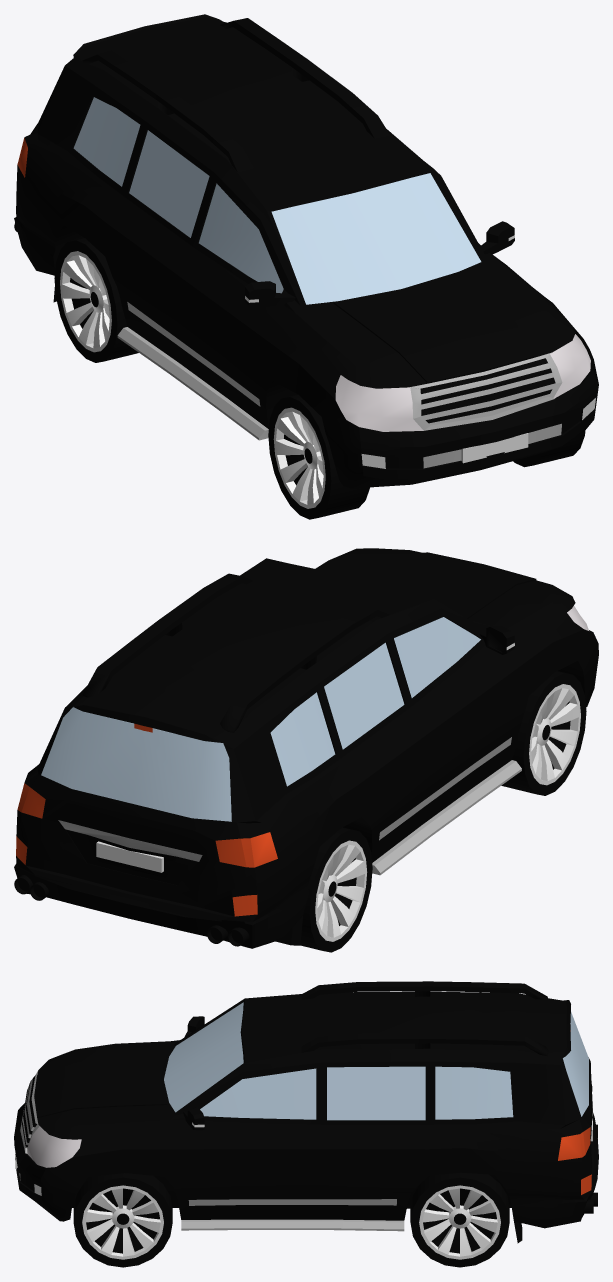
File: Land Cruiser.2.fbx
The picture shows the model from 3 angles, top to bottom: view 1: azimuth 30°, elevation 25°; view 2: azimuth 150°, elevation 25°; view 3: azimuth 270°, elevation 25°; orthographic projection. The views are drawn at different scales.
Parts seen in each view (by area): view 1: body, wheels front right, wheels back right, bagajnik, mirrors, number, wheels front left; view 2: body, wheels front right, bagajnik, wheels back right, tubes, number back, mirrors; view 3: body, wheels back left, wheels front left, bagajnik, mirrors.
Part boxes in pixels (x1,y1,x2,y2): body: [14, 14, 598, 488]; wheels front right: [268, 394, 369, 519]; wheels back right: [54, 238, 138, 362]; bagajnik: [82, 18, 389, 172]; mirrors: [245, 221, 514, 307]; number: [461, 433, 528, 463]; wheels front left: [513, 431, 585, 467]; body: [14, 548, 598, 948]; wheels front right: [501, 671, 586, 795]; bagajnik: [82, 573, 389, 732]; wheels back right: [300, 827, 372, 952]; tubes: [14, 875, 249, 946]; number back: [96, 841, 163, 872]; mirrors: [479, 626, 514, 654]; body: [14, 991, 598, 1243]; wheels back left: [410, 1172, 509, 1267]; wheels front left: [73, 1173, 172, 1267]; bagajnik: [301, 981, 548, 1055]; mirrors: [183, 1016, 204, 1130].
Size of the model in its own units: 164 by 156 by 396.
